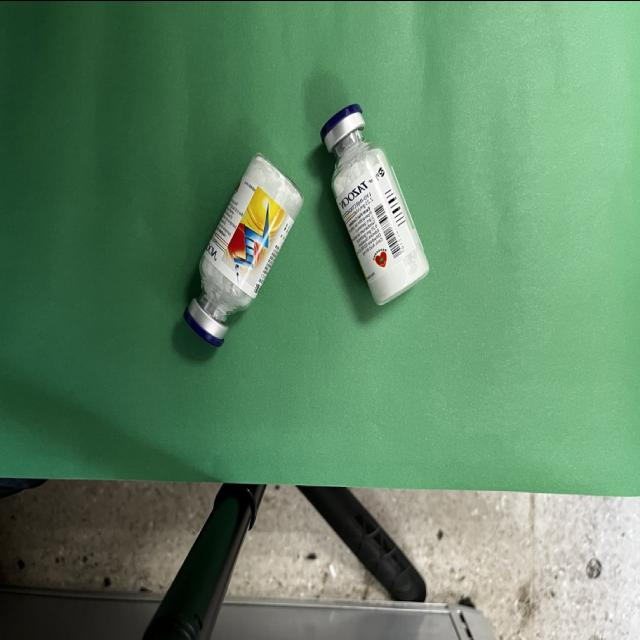Vials: (184, 154, 302, 345), (321, 103, 429, 304)
